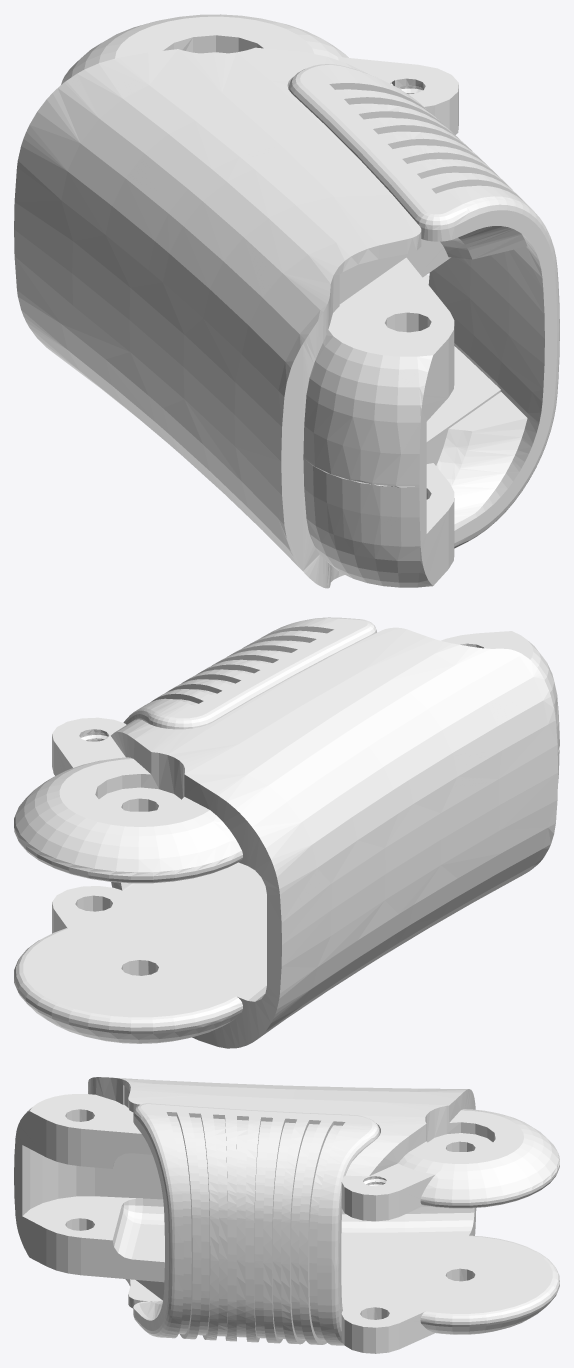
The model's file is lh_middle_middle_vis.obj.
3 renders of one model, top to bottom at view 1: azimuth 30°, elevation 25°; view 2: azimuth 150°, elevation 25°; view 3: azimuth 270°, elevation 25°, orthographic. The views are drawn at different scales.
Parts seen in each view (by area): view 1: lh_middle_middle; view 2: lh_middle_middle; view 3: lh_middle_middle.
Part boxes in pixels (box(x1,y1,x2,y2)): lh_middle_middle: box(14, 14, 559, 588); lh_middle_middle: box(14, 617, 559, 1048); lh_middle_middle: box(14, 1077, 559, 1353).
Size of the model in its own units: 0.0196 by 0.016 by 0.0369.
Materials: 1 (1 with a texture image).
